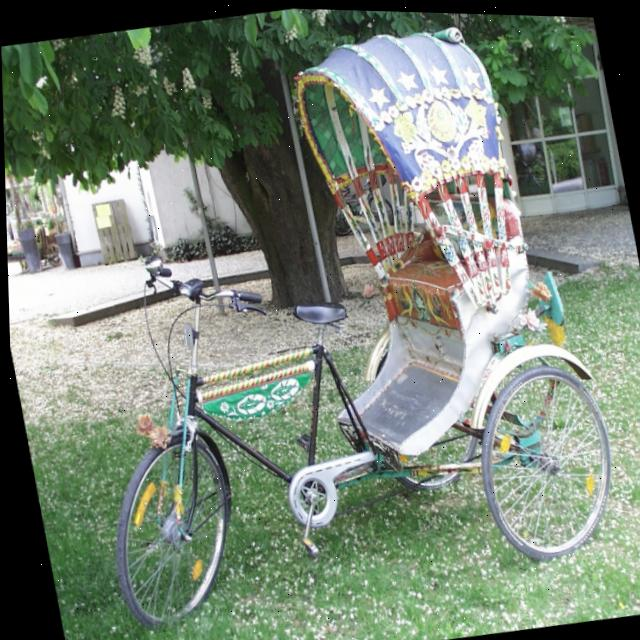rikshaw: (0, 14, 626, 640)
